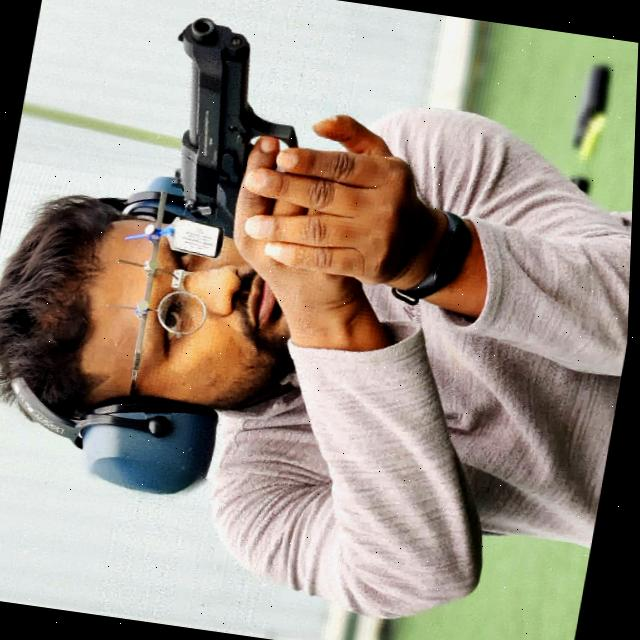pistol: (178, 6, 305, 248)
